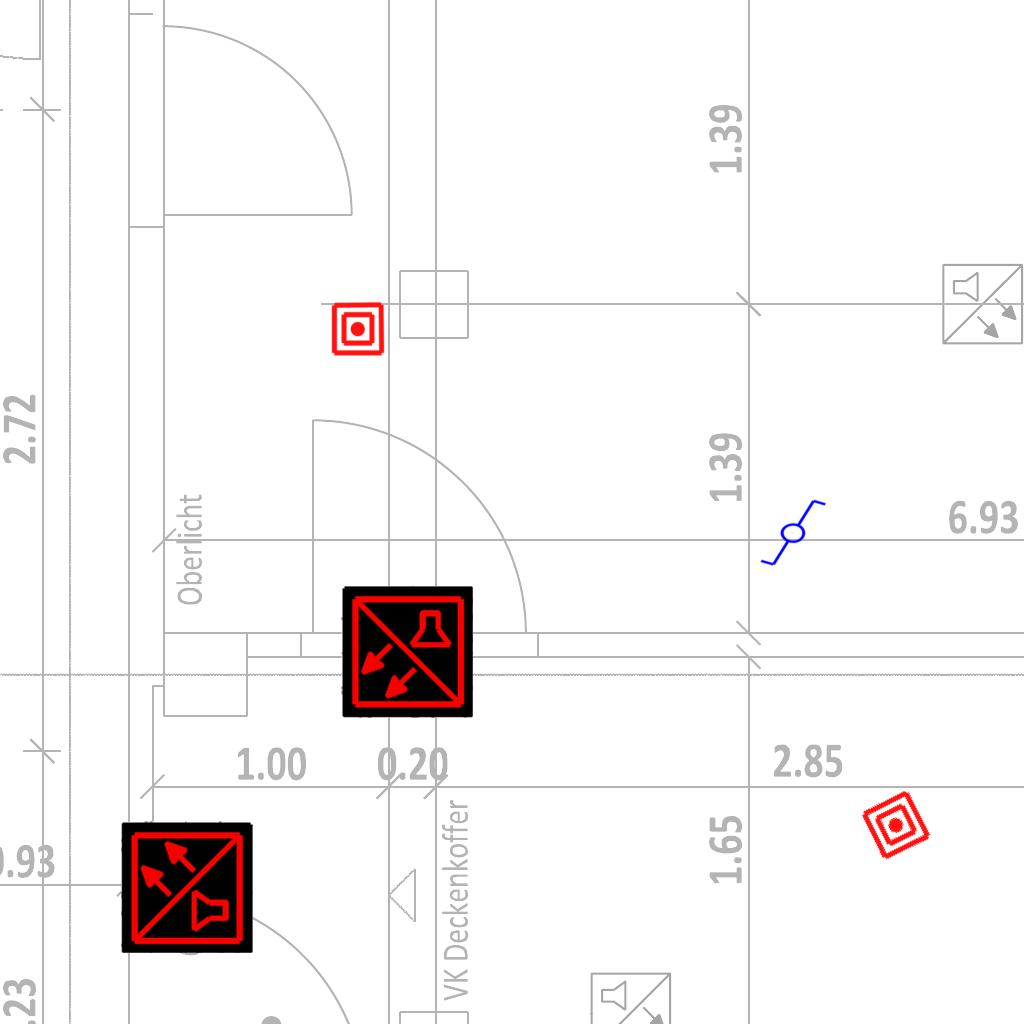NAM-Nichtautomatischer_Melder: (858, 787, 934, 863), (330, 301, 386, 357)
OKW_Multisensormelder_(Kombination_optischer_Rauch-Kahlenmonoxid_Waerme-Melder): (341, 586, 473, 718), (121, 821, 253, 953)
Wechselschalter: (750, 496, 828, 568)
